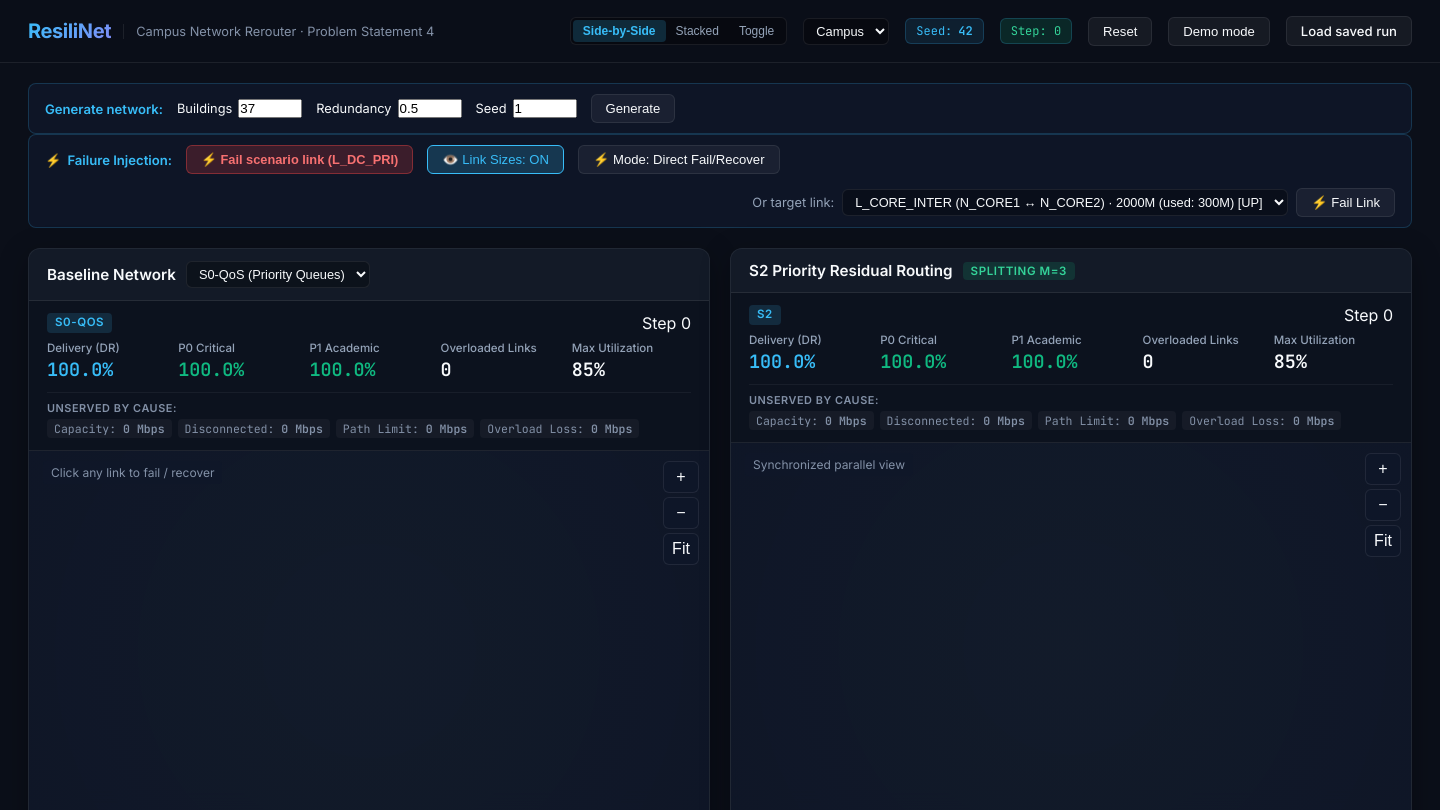
Scenario: App Component (Phase 1 & Phase 2) › defaults baseline selector to S0-QoS and switches layout modes (Task 3.3 & Task 3.5)
Expected: the dropdown with test id "baseline-selector" shows "S0-QoS (Priority Queues)", left=186, top=261, right=370, bottom=288
# Layout switcher should toggle between side-by-side, stacked, and toggle
Click the button "Stacked" at {"x": 697, "y": 31}, box left=666, top=20, right=729, bottom=42
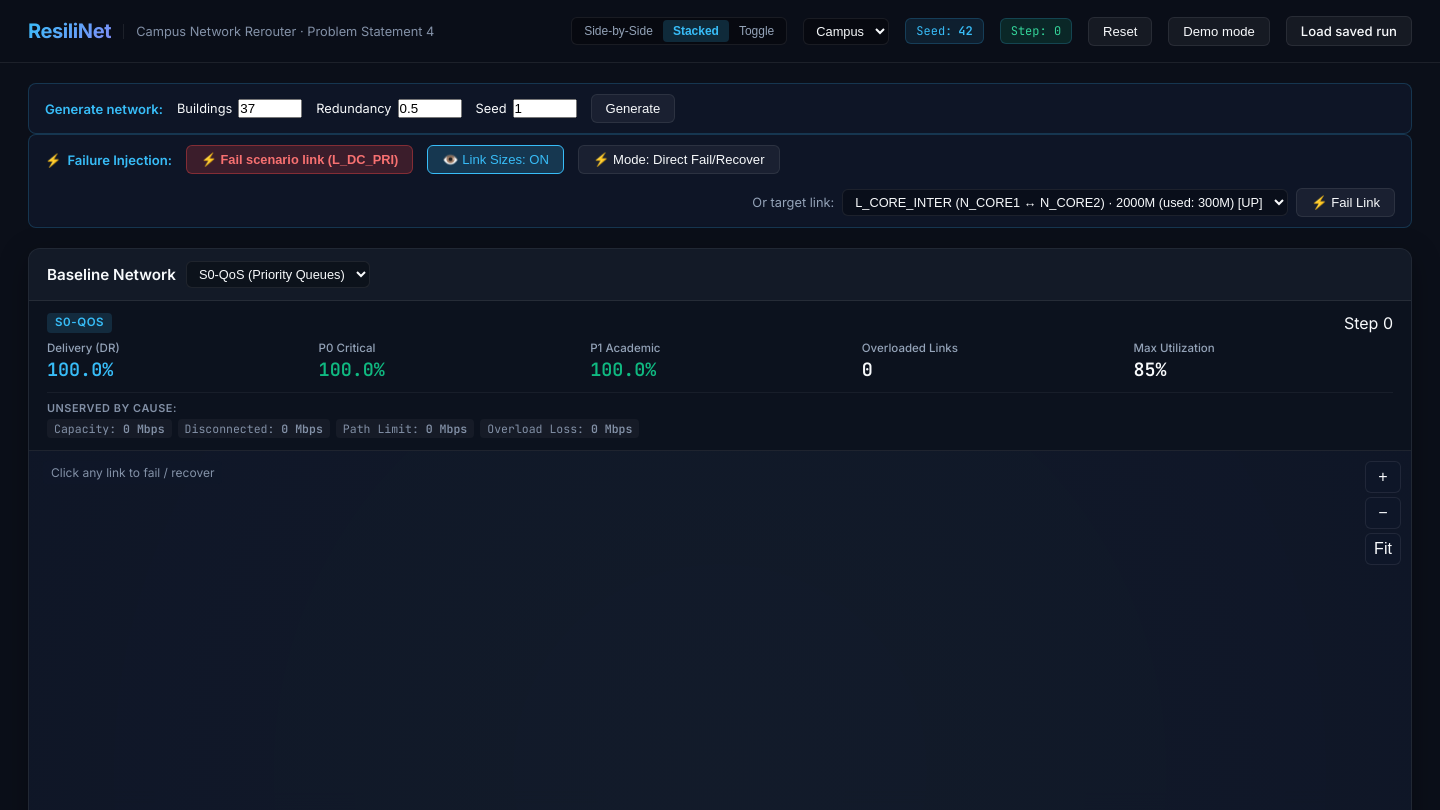
Expected: the button "Stacked" has class "layout-btn-active", left=663, top=20, right=729, bottom=42
Click the button "Toggle" at {"x": 757, "y": 31}, box left=729, top=20, right=784, bottom=42
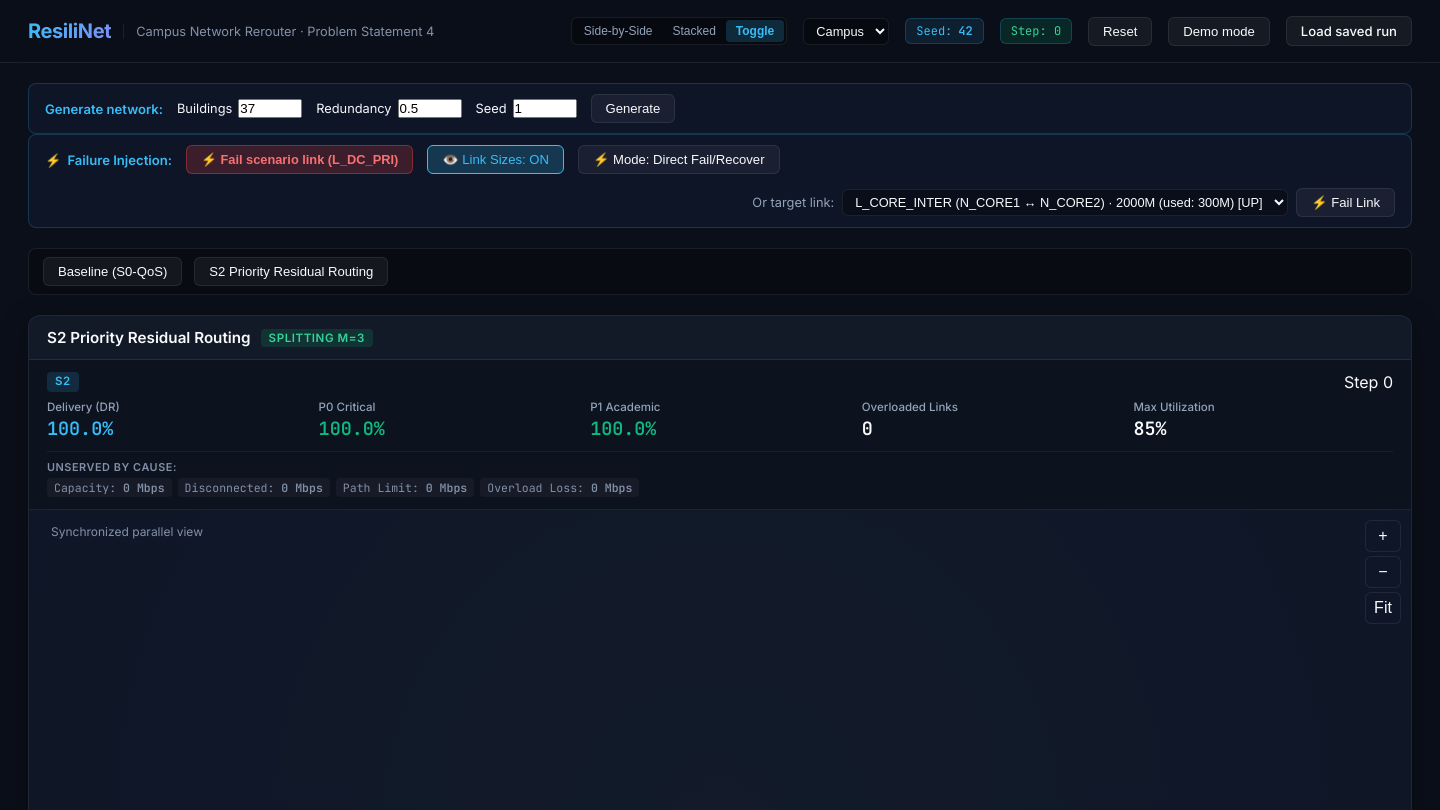
Expected: the element with test id "toggle-policy-bar" is shown, left=28, top=248, right=1412, bottom=295
